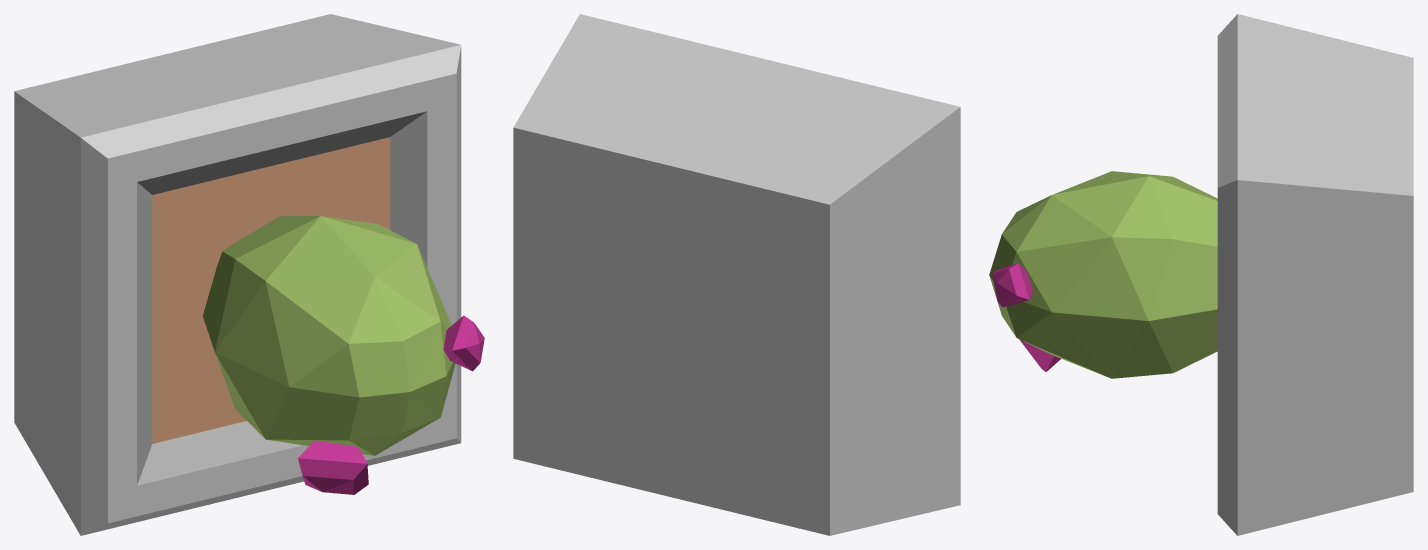
File: Deco_4.obj
3 renders of one model, left to right at view 1: azimuth 30°, elevation 25°; view 2: azimuth 150°, elevation 25°; view 3: azimuth 270°, elevation 25°, orthographic. The views are drawn at different scales.
Visible parts, largest first — view 1: Deco_4; view 2: Deco_4; view 3: Deco_4.
Part boxes in pixels (left/top/right/bottom): Deco_4: left=14, top=14, right=484, bottom=535; Deco_4: left=513, top=14, right=960, bottom=535; Deco_4: left=989, top=14, right=1413, bottom=535.
Size of the model in its own units: 0.0798 by 0.0798 by 0.0862.
